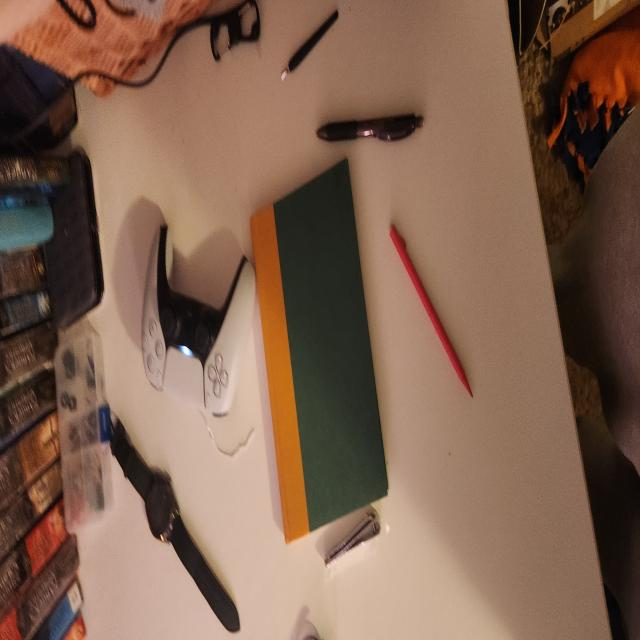Controller: (152, 237, 227, 371)
Pen: (394, 223, 473, 391), (315, 115, 421, 145)
Watch: (169, 514, 240, 634)
